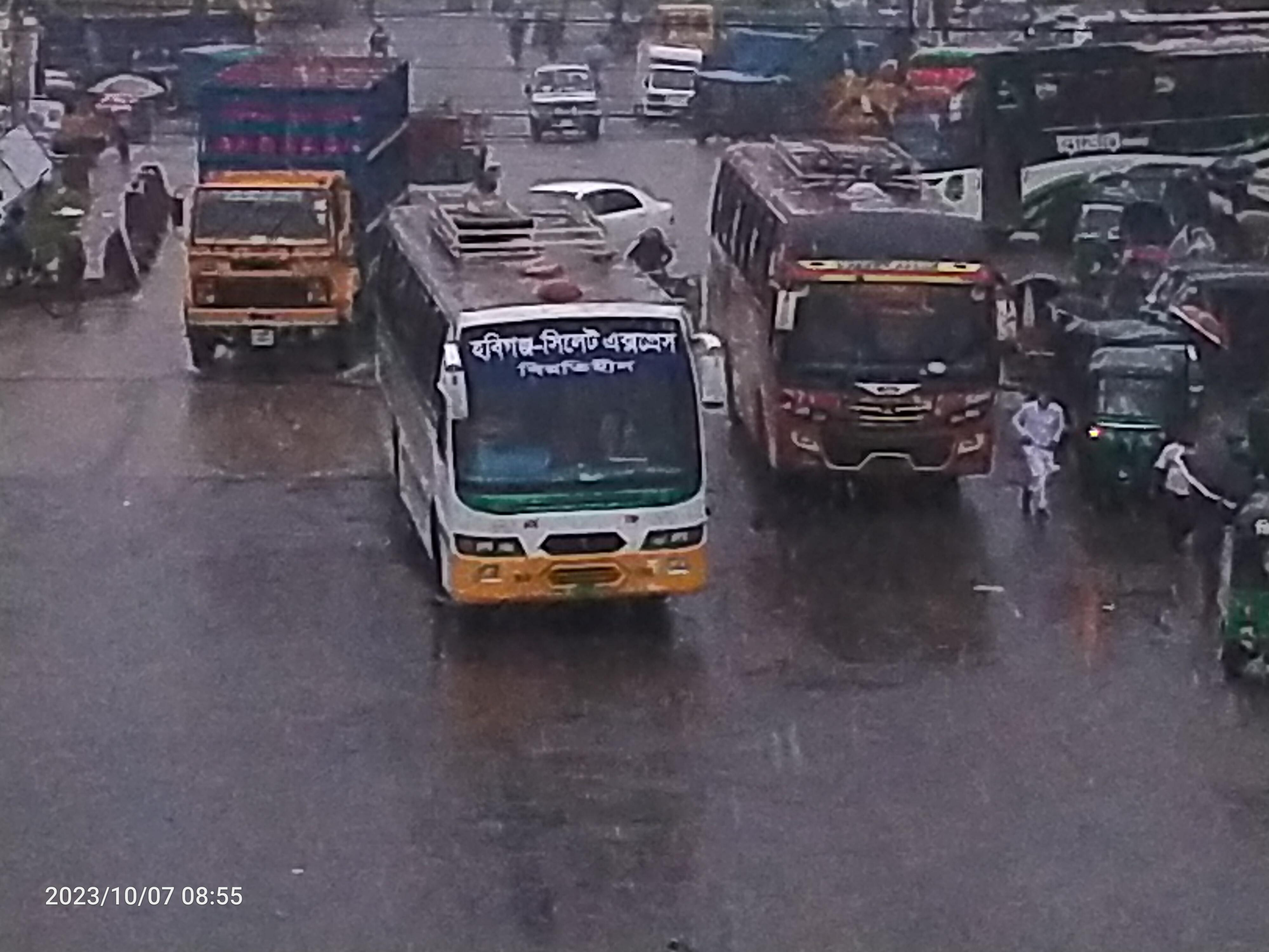Bus: (337, 180, 727, 640), (689, 112, 1030, 527), (873, 27, 1269, 175)
Car: (508, 170, 696, 258), (502, 43, 613, 160), (621, 27, 718, 143)
Truck: (154, 30, 471, 405)
